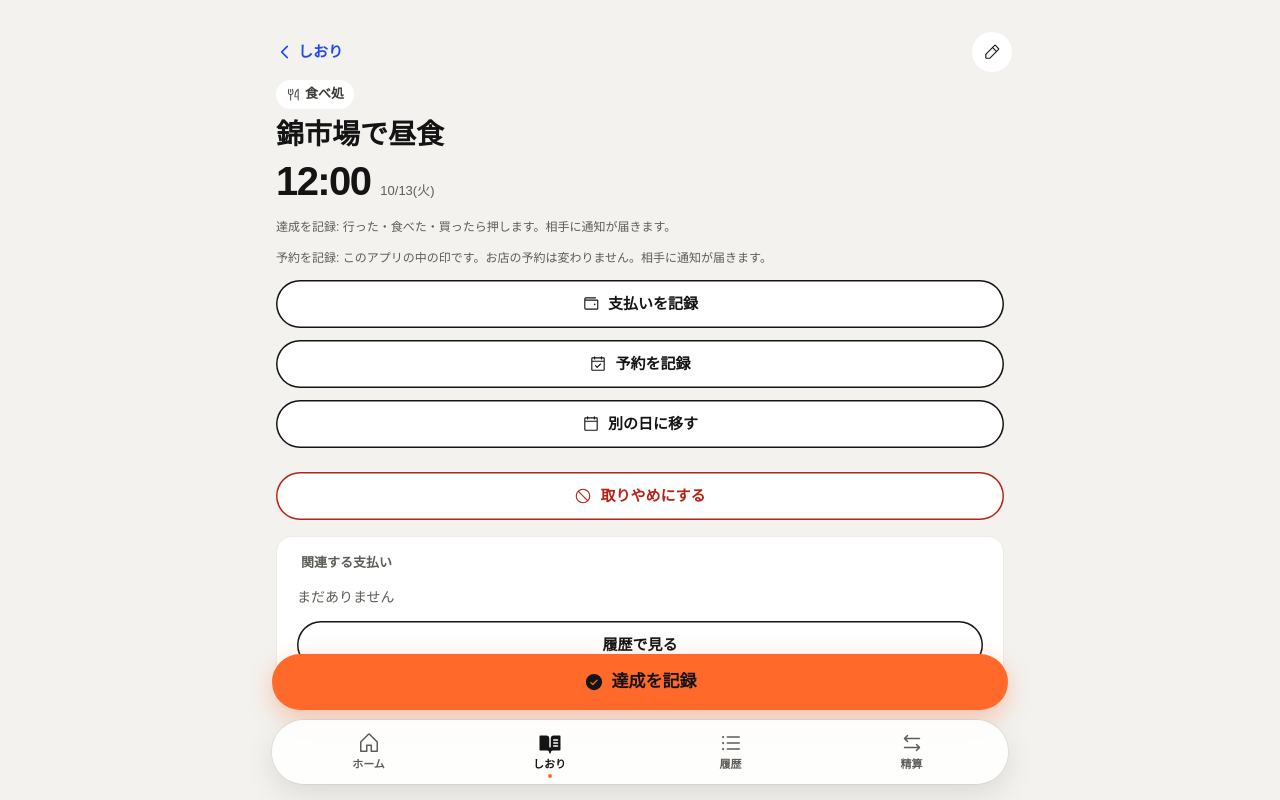
Test: PlanDetailScreen (/trips/{id}/plans/{planId}） › W-21: 取りやめは名前・日付・記録が残ることを確認してから送る
Check: the heading "錦市場で昼食" is shown, box [276,119,444,150]
Click the button "取りやめにする". click: [640, 496]
box: [276,472,1004,520]
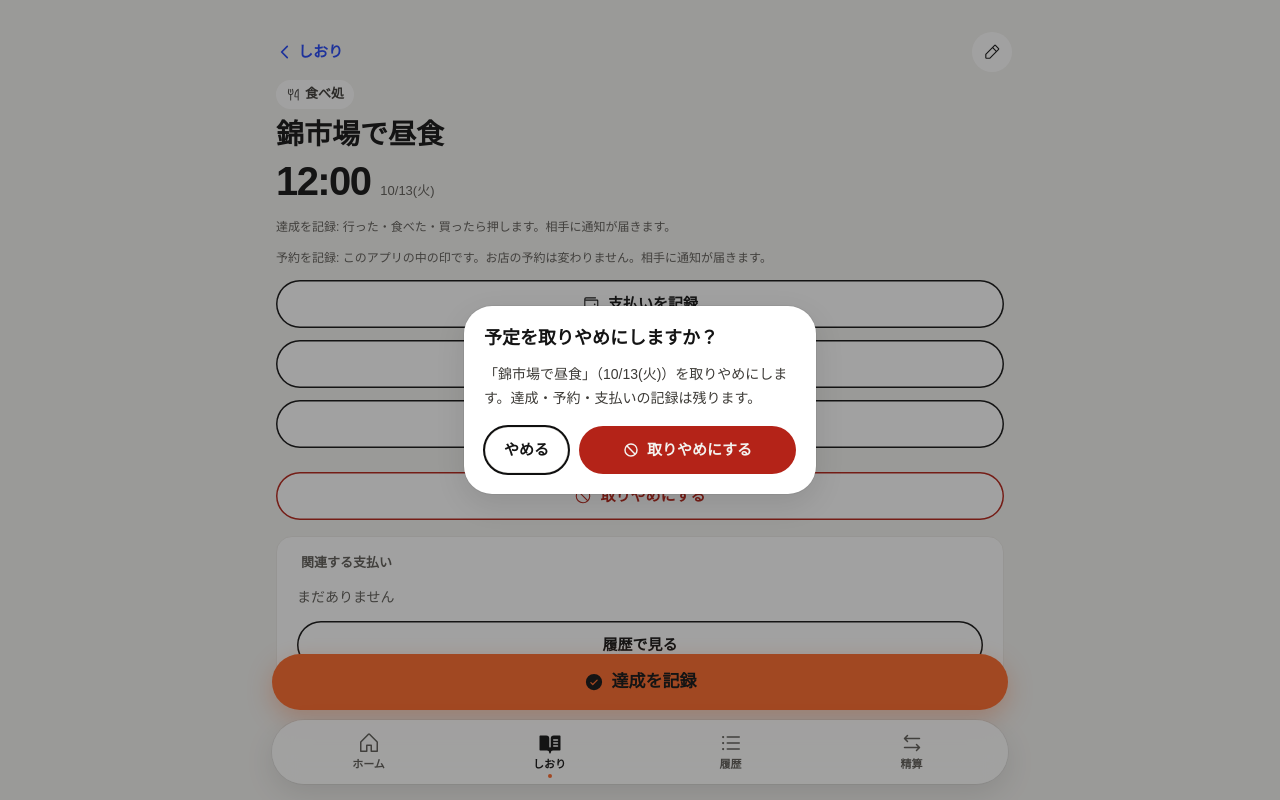
Check: the heading "予定を取りやめにしますか？" is shown, box [484,328,718,348]
Check: the dialog is shown, box [464,306,816,494]
Check: the text "「錦市場で昼食」（10/13(火)）を取りやめにします。達成・予約・支払いの記録は残ります。" is shown, box [484,363,796,410]
Click the button "取りやめにする". click: [688, 450]
box: [579,426,796,474]
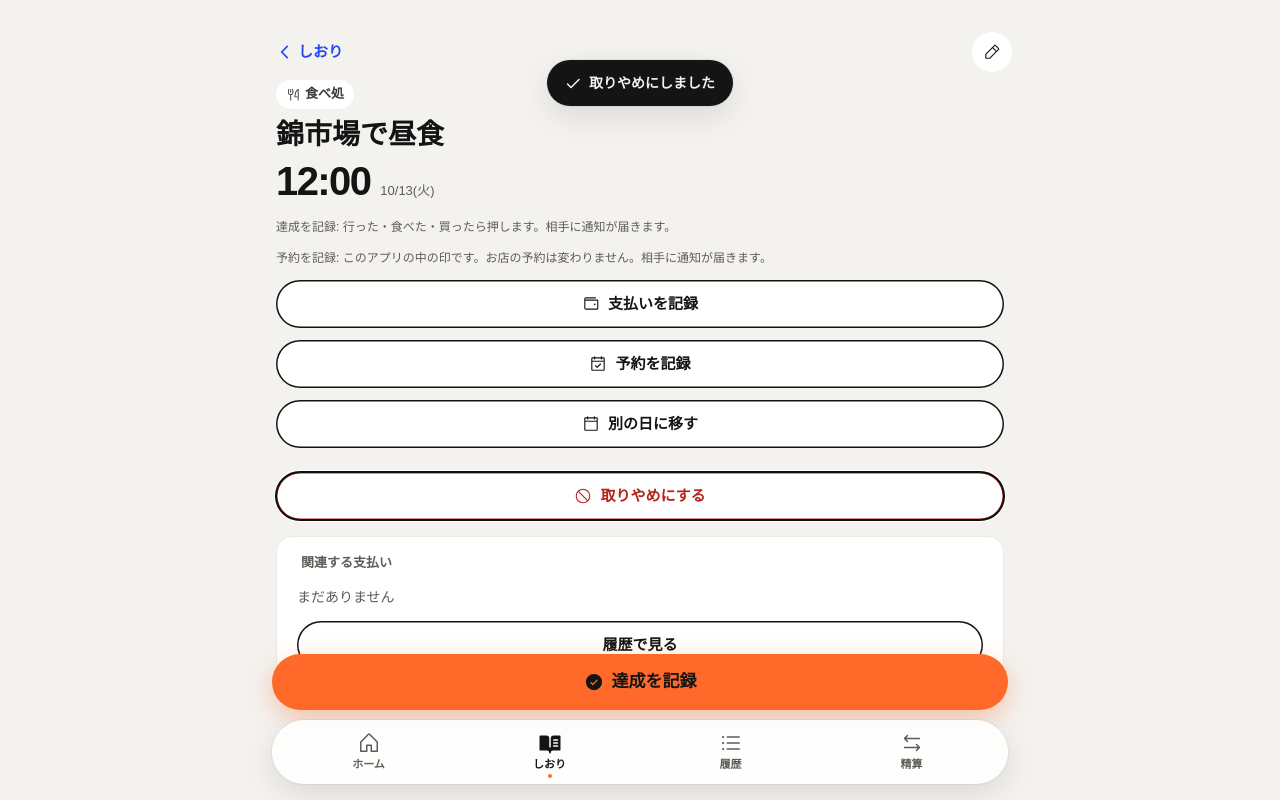
Check: the text "取りやめにしました" is shown, box [547,60,733,106]
